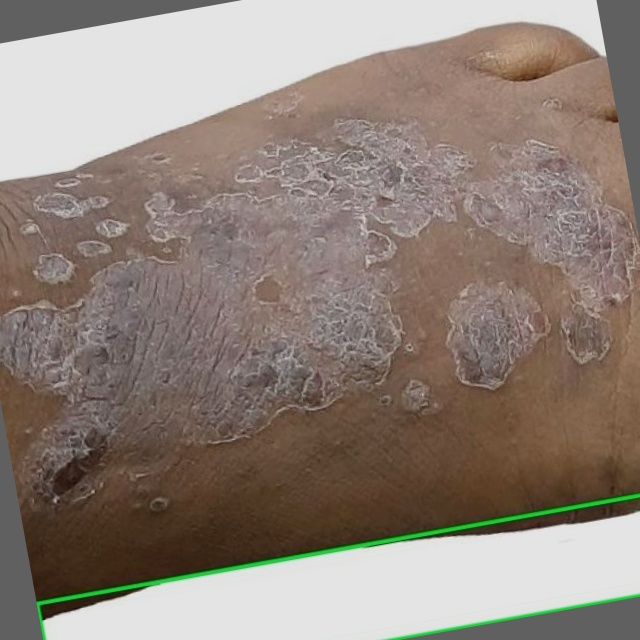Contact Dermatitis: (37, 495, 639, 639)
